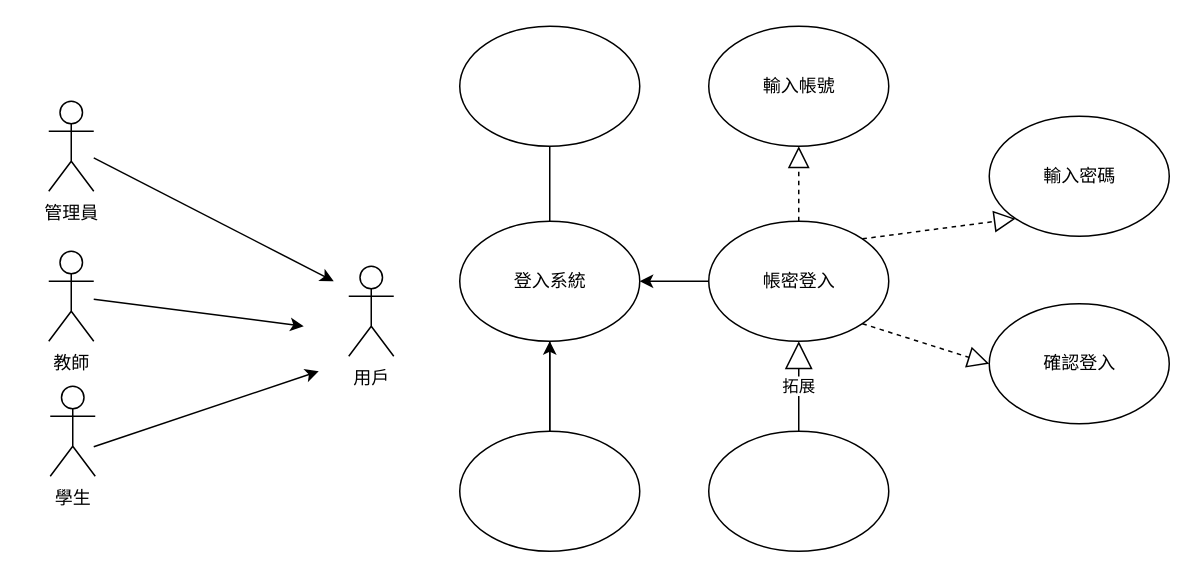
The diagram is 1196 pixels wide and 578 high, and some of its shapes have lost their labels. Here are the shapes that lost their labels. From the top down, the centre of each, then its label:
At (x=549, y=85): "展示首頁".
At (x=549, y=490): "微信支付".
At (x=798, y=490): "忘記密碼".
